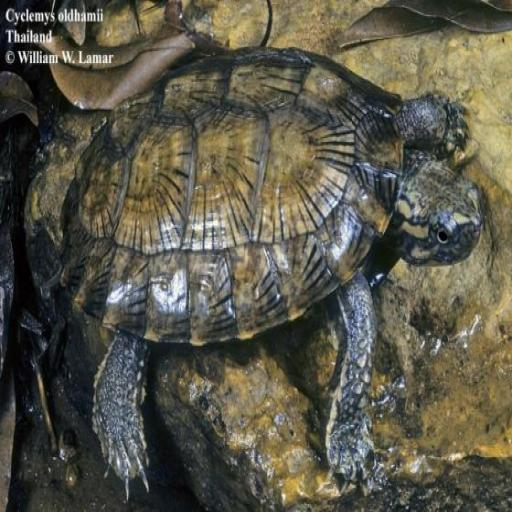turtle: (58, 45, 473, 486)
